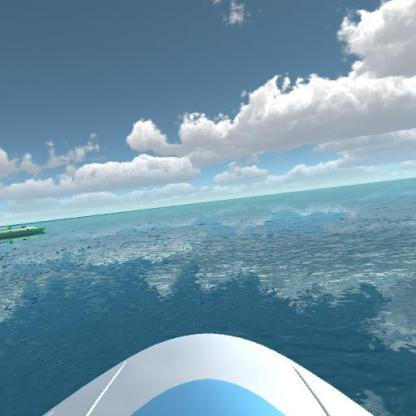usv0: (0, 217, 49, 246)
